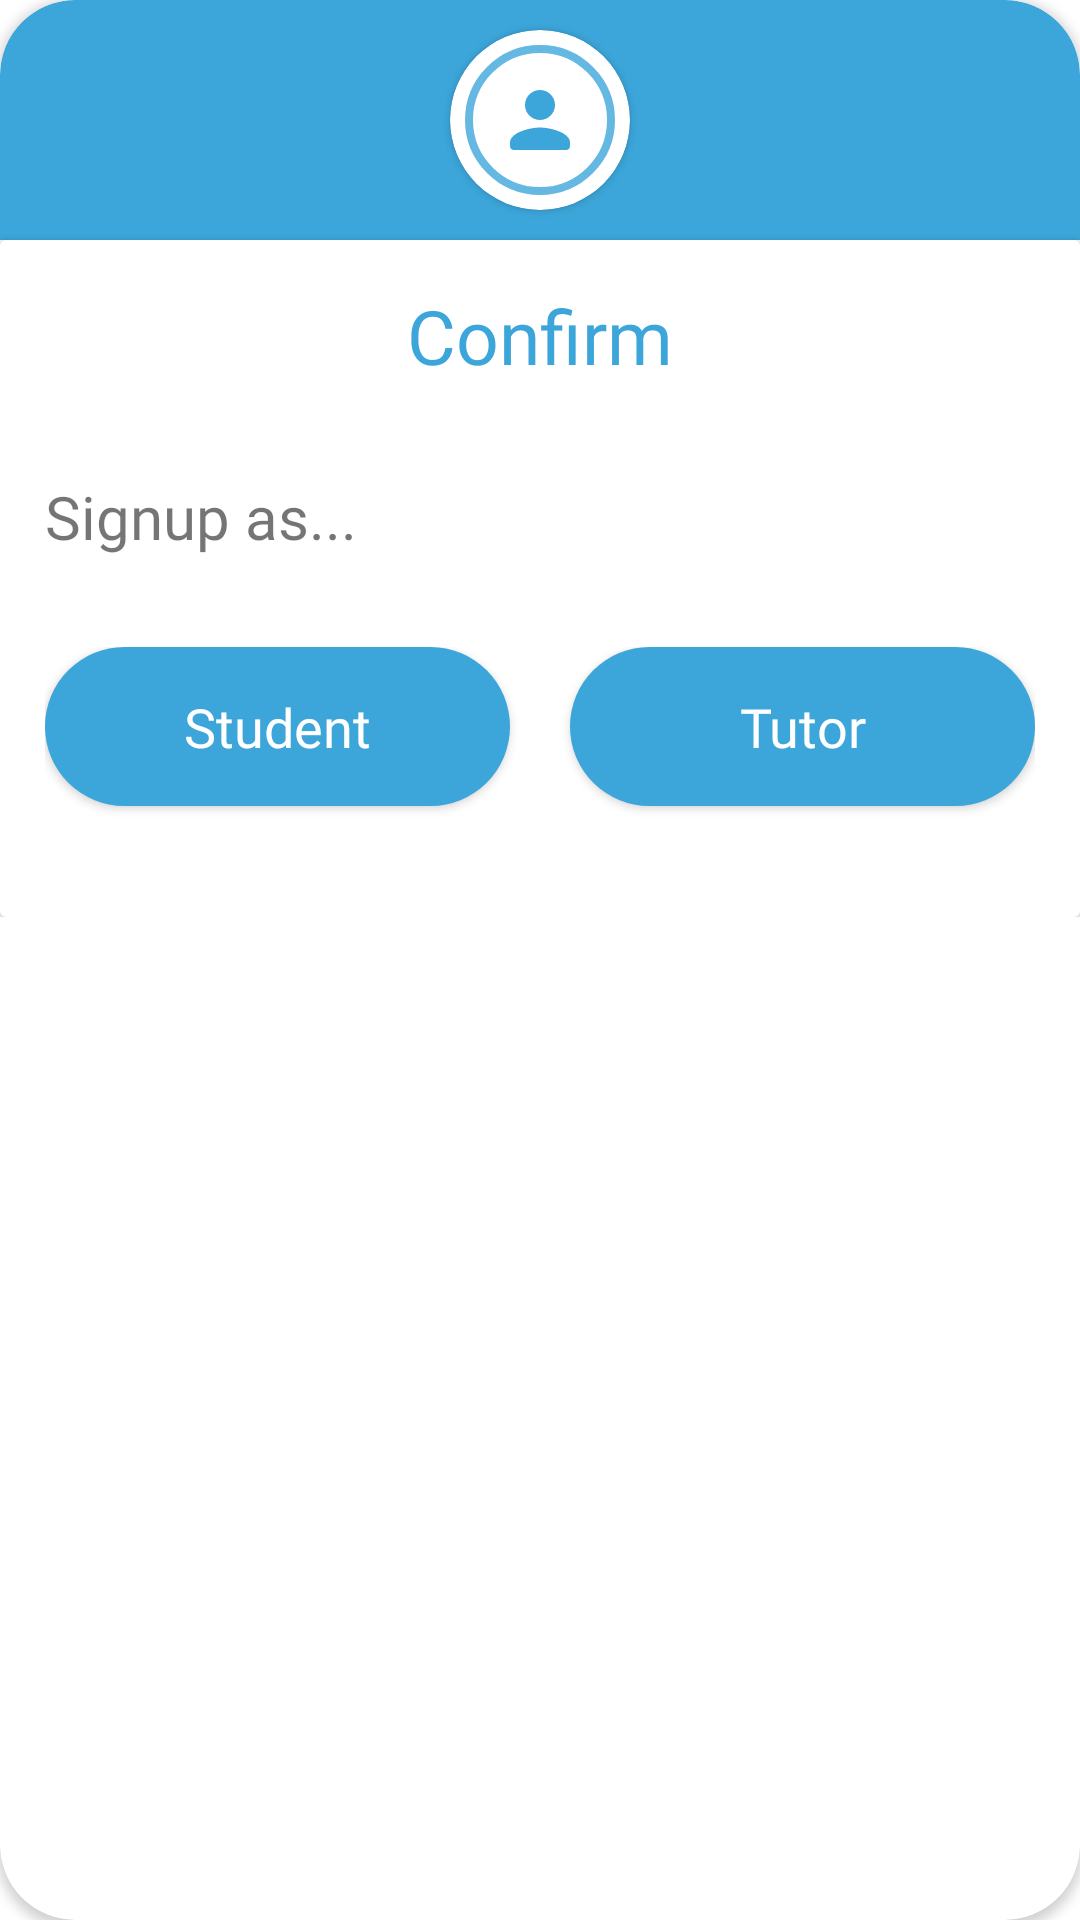

Point at icon controls on the screen. Image size 1080w x 1920h, points as (x,y).
person: (540,120)
